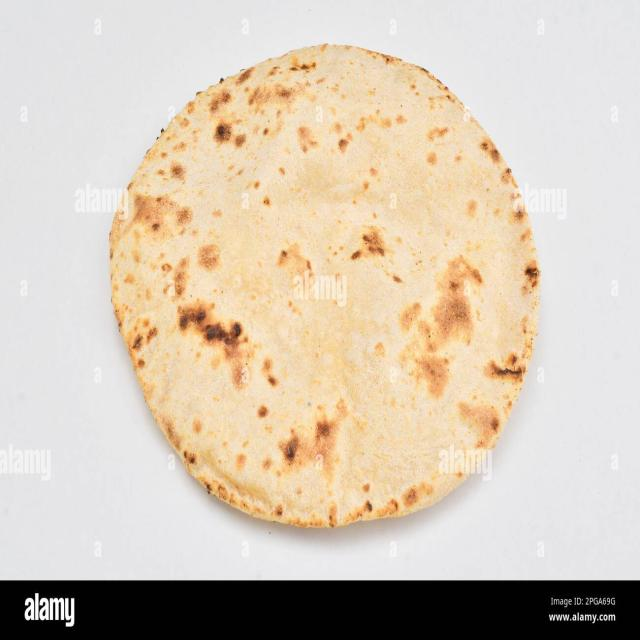ROTI: (107, 43, 537, 521)
